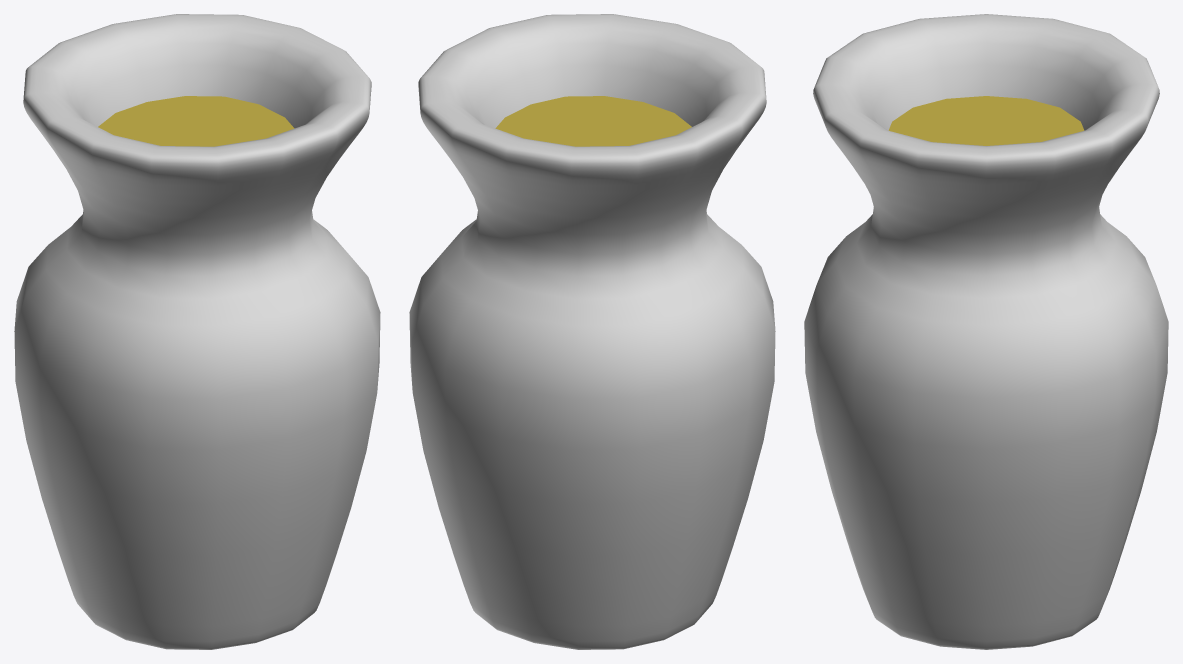
Rendered from JarronV2.fbx.
The picture shows the model from 3 angles, left to right: view 1: azimuth 30°, elevation 25°; view 2: azimuth 150°, elevation 25°; view 3: azimuth 270°, elevation 25°; orthographic projection.
Visible parts, largest first — view 1: jarron, MijoLlenoVasija; view 2: jarron, MijoLlenoVasija; view 3: jarron, MijoLlenoVasija.
Part boxes in pixels (x1,y1,x2,y2): jarron: (14,14,380,649); MijoLlenoVasija: (98,96,294,146); jarron: (409,14,775,649); MijoLlenoVasija: (495,96,691,146); jarron: (804,14,1168,649); MijoLlenoVasija: (888,96,1084,145).
Bounding box in the file's own units: 0.4202 × 0.6587 × 0.4202.
